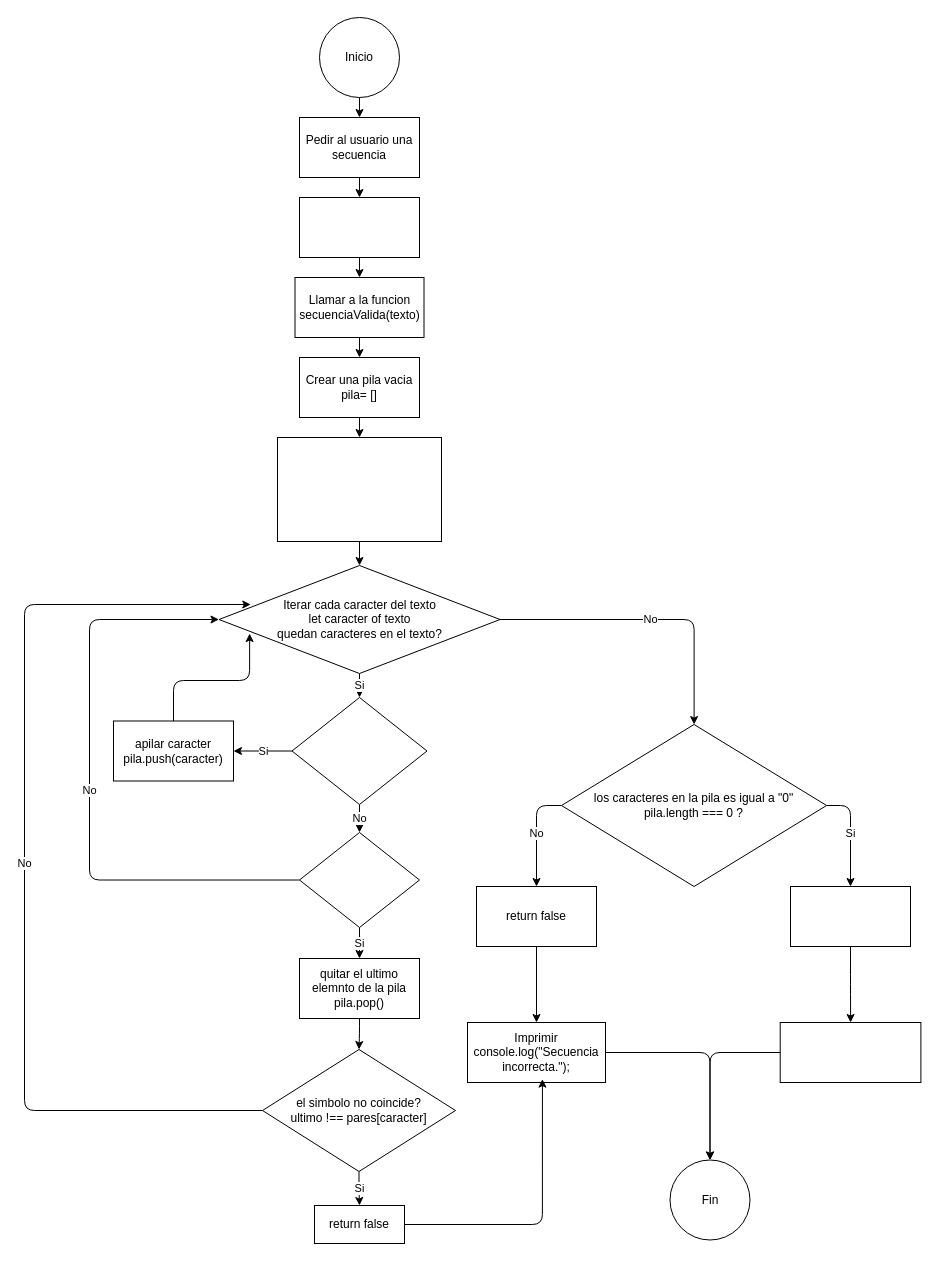
Some shapes in this 939 by 1261 pixel diagram are drawn without their labels. The centre of each missing label's shape, as x and y in pixels:
definir pares const pares = { ')': '(', ']': '[', '}': '{' };: pixel 359 489
el caracter es "(" o "[" o "{" ?: pixel 359 750
el caracter es ")" o "[" o "{" ?: pixel 359 880
Guardar la entrada en la variable "texto": pixel 359 227
Imprimir console.log("Secuencia correcta.");: pixel 850 1052
return true: pixel 850 916
